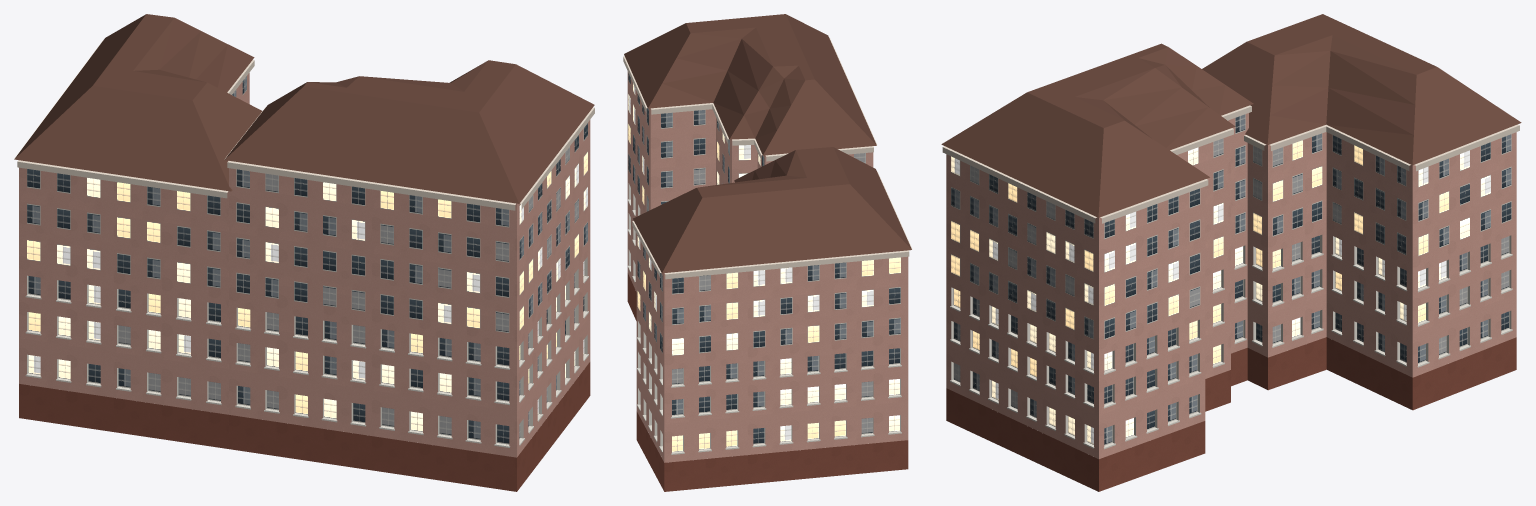
The model's file is z4L_thomas_pink.glb.
The picture shows the model from 3 angles, left to right: view 1: azimuth 30°, elevation 25°; view 2: azimuth 150°, elevation 25°; view 3: azimuth 270°, elevation 25°; orthographic projection. The views are drawn at different scales.
Visible parts, largest first — view 1: z4L_thomas_pink; view 2: z4L_thomas_pink; view 3: z4L_thomas_pink.
Boxes of the visible parts, x1,y1,x2,y2 form: z4L_thomas_pink: [14, 14, 594, 491]; z4L_thomas_pink: [623, 14, 912, 491]; z4L_thomas_pink: [941, 14, 1521, 491].
Bounding box in the file's own units: 42.12 × 30.36 × 48.34.
3 materials, 3 textured.
